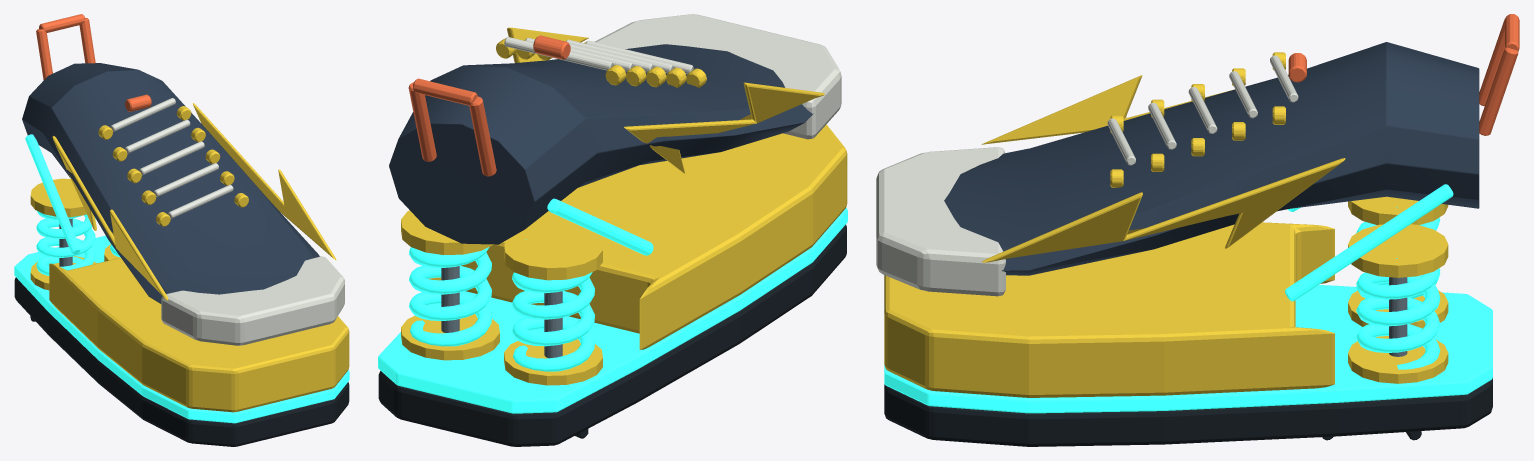
The model's file is VoltstepCoils.glb.
3 renders of one model, left to right at view 1: azimuth 30°, elevation 25°; view 2: azimuth 150°, elevation 25°; view 3: azimuth 270°, elevation 25°, orthographic. The views are drawn at different scales.
Visible parts, largest first — view 1: VoltstepCoils_AuthoredFootwear; view 2: VoltstepCoils_AuthoredFootwear; view 3: VoltstepCoils_AuthoredFootwear.
Part boxes in pixels (<box>): VoltstepCoils_AuthoredFootwear: <box>14,14,349,446</box>; VoltstepCoils_AuthoredFootwear: <box>378,14,847,446</box>; VoltstepCoils_AuthoredFootwear: <box>876,14,1519,446</box>.
Size of the model in its own units: 0.154 by 0.2102 by 0.3328.
